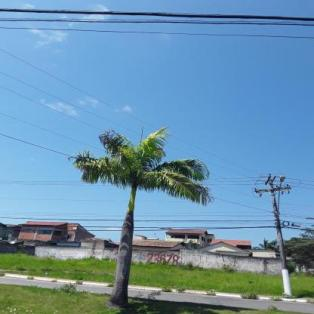Poste: (269, 178, 294, 298)
